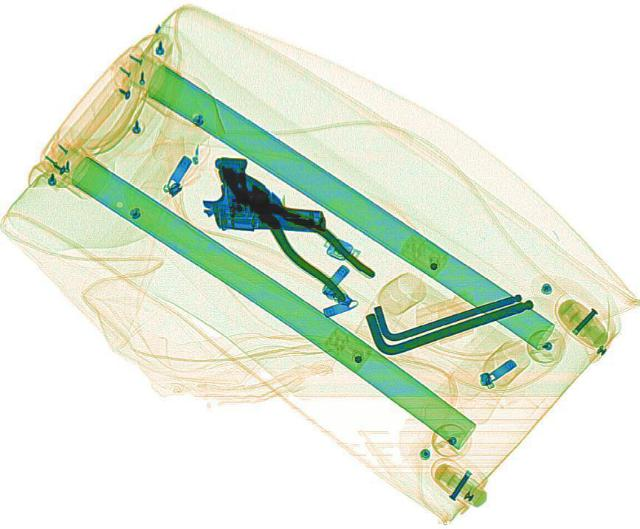Gun: (199, 156, 331, 233)
Pliers: (209, 163, 385, 304)
